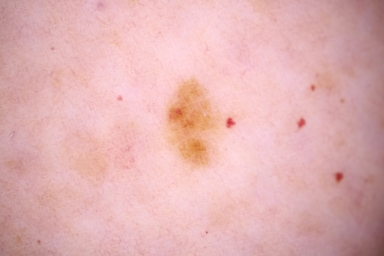melanoma: (173, 74, 215, 160)
